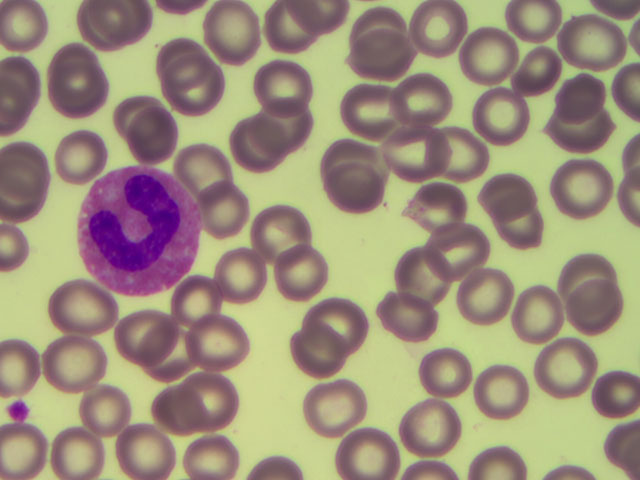Platelets: (9, 397, 30, 422)
RBC: (49, 416, 109, 480), (118, 416, 178, 480), (333, 416, 393, 480), (76, 1, 151, 52), (46, 48, 106, 111), (150, 22, 210, 85), (173, 67, 233, 130), (194, 4, 254, 67), (122, 97, 182, 160), (48, 121, 108, 184), (51, 273, 111, 336), (39, 329, 99, 392), (68, 372, 128, 435), (153, 382, 213, 445), (191, 363, 251, 426), (186, 314, 246, 377), (172, 272, 232, 335), (109, 305, 169, 368), (211, 239, 271, 302), (243, 197, 303, 260), (200, 186, 260, 249), (179, 132, 239, 195), (222, 117, 282, 180), (261, 81, 321, 144), (251, 47, 311, 110), (266, 1, 326, 64), (356, 27, 416, 90), (457, 25, 517, 88), (396, 61, 456, 124), (345, 74, 405, 137), (314, 129, 374, 192), (382, 127, 442, 190), (439, 124, 499, 187), (407, 165, 467, 228), (438, 218, 498, 281), (389, 245, 449, 308), (379, 275, 439, 338), (306, 286, 366, 349), (282, 327, 342, 390), (272, 243, 332, 306), (305, 378, 365, 441), (405, 396, 465, 459), (411, 343, 471, 406), (485, 362, 545, 425), (498, 282, 558, 345), (458, 263, 518, 326), (546, 337, 606, 400), (580, 358, 640, 421), (567, 278, 627, 341), (561, 243, 621, 306), (506, 199, 566, 262), (487, 162, 547, 225), (550, 153, 610, 216), (555, 98, 615, 161), (555, 72, 615, 135), (516, 43, 576, 106), (471, 85, 531, 148), (562, 11, 622, 74), (355, 1, 415, 63), (402, 1, 462, 63), (1, 145, 60, 208)
WBC: (69, 171, 201, 291)
